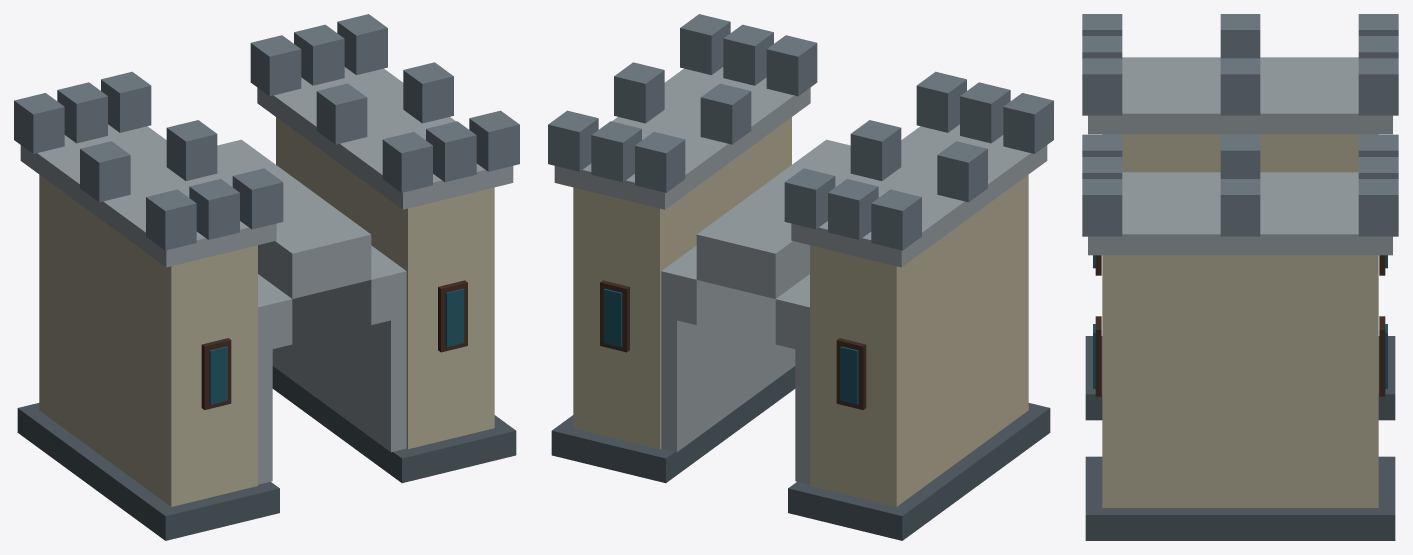
File: Blockland_CastleGatehouse_Simple.glb
3 renders of one model, left to right at view 1: azimuth 30°, elevation 25°; view 2: azimuth 150°, elevation 25°; view 3: azimuth 270°, elevation 25°, orthographic. The views are drawn at different scales.
Visible parts, largest first — view 1: Blockland_CastleGatehouse_Simple; view 2: Blockland_CastleGatehouse_Simple; view 3: Blockland_CastleGatehouse_Simple.
Boxes of the visible parts, left/top/right/bottom form: Blockland_CastleGatehouse_Simple: left=14, top=14, right=519, bottom=540; Blockland_CastleGatehouse_Simple: left=548, top=14, right=1053, bottom=540; Blockland_CastleGatehouse_Simple: left=1082, top=14, right=1398, bottom=540.
Size of the model in its own units: 4.5 by 4.02 by 3.32.
